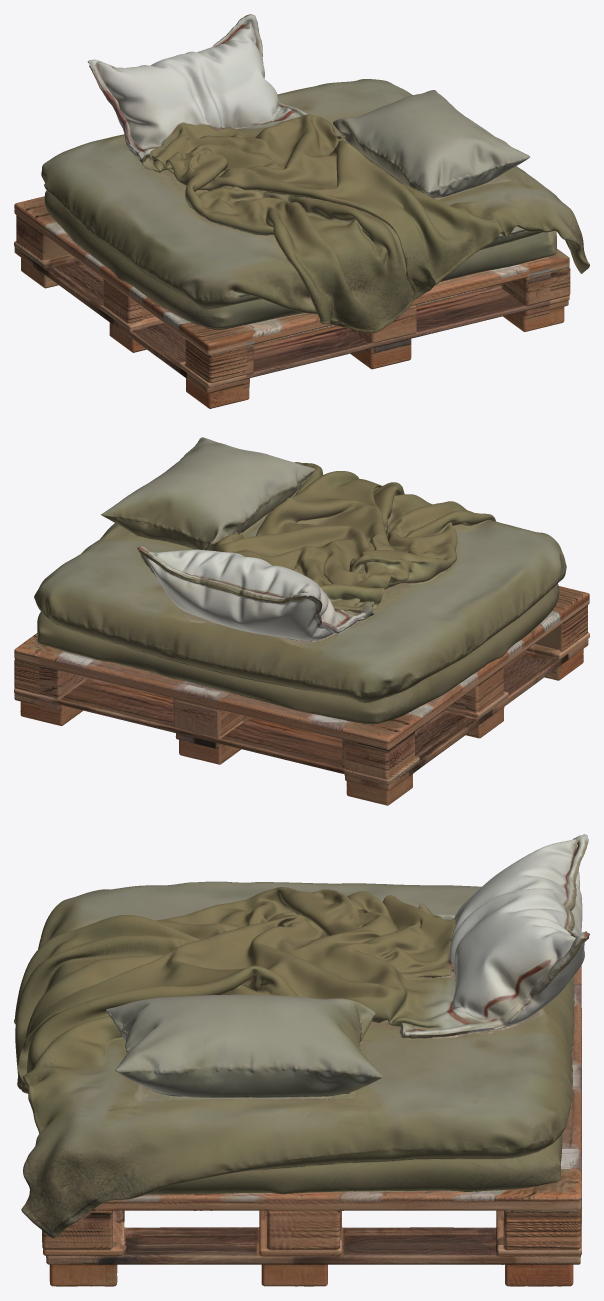
File: Worker_pallet_bed_thick_mattress_wool_blanket.glb
3 renders of one model, top to bottom at view 1: azimuth 30°, elevation 25°; view 2: azimuth 150°, elevation 25°; view 3: azimuth 270°, elevation 25°, orthographic. The views are drawn at different scales.
Bounding box in the file's own units: 1.9 × 0.9267 × 1.77.
Materials: 1 (1 with a texture image).
